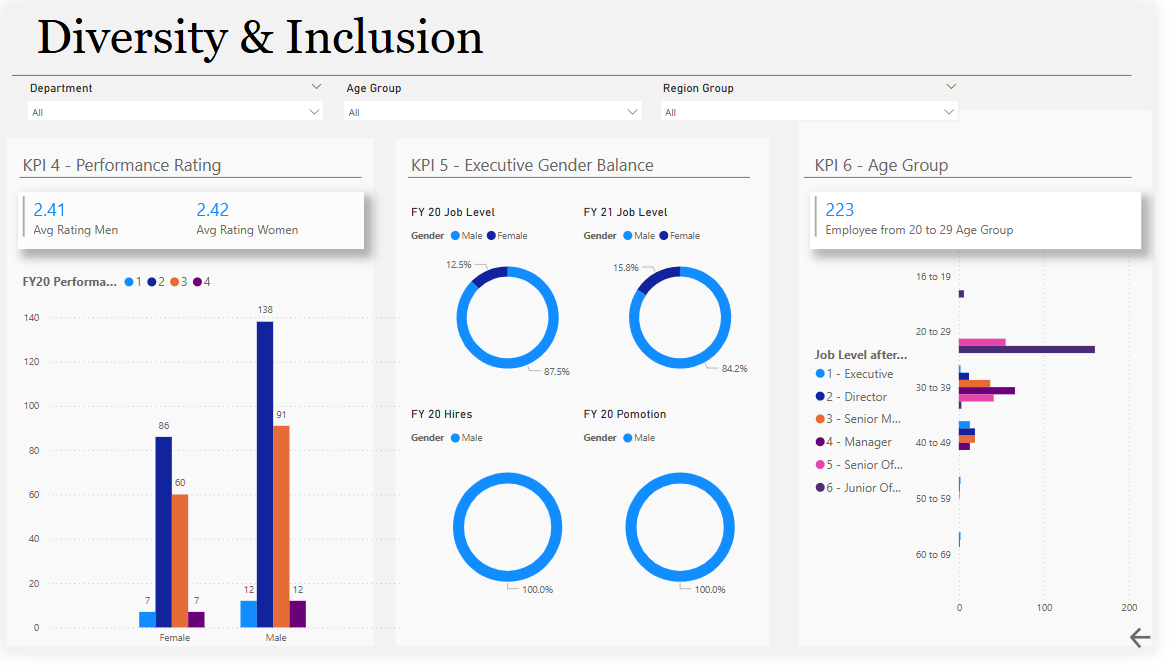

The page's visual inventory and layout, read from the dashboard file:
{"tool":"powerbi","page":{"name":"Diversity & Inclusion Analysis Dashboard II","canvas":[1280,720],"ordinal":1},"visuals":[{"type":"basicShape","box":[0,144,416,576],"z":0},{"type":"basicShape","box":[0,64,1264,32],"z":1000},{"type":"basicShape","box":[432,144,424,576],"z":2000},{"type":"basicShape","box":[880,112,400,608],"z":3000},{"type":"slicer","fields":{"Values":["Pharma Group AG.Last Department in FY20"]},"box":[16,80,350,64],"z":4000},{"type":"slicer","fields":{"Values":["Pharma Group AG.Age group"]},"box":[368,80,352,64],"z":5000},{"type":"slicer","fields":{"Values":["Pharma Group AG.Broad region group: nationality 1"]},"box":[720,80,352,64],"z":6000},{"type":"clusteredColumnChart","fields":{"Category":["Pharma Group AG.Gender"],"Y":["CountNonNull(Pharma Group AG.Employee ID)"],"Series":["Pharma Group AG.FY20 Performance Rating"]},"box":[16,288,432,432],"z":7000},{"type":"textbox","box":[16,160,368,48],"z":8000},{"type":"multiRowCard","fields":{"Values":["Pharma Group AG.Avg performamnce (men)","Pharma Group AG.Avg performamnce (women)"]},"box":[16,208,384,64],"z":9000},{"type":"basicShape","box":[8,176,400,32],"z":10000},{"type":"donutChart","title":"FY 21 Job Level","fields":{"Category":["Pharma Group AG.Gender"],"Y":["CountNonNull(Pharma Group AG.Employee ID)"]},"box":[640,224,224,208],"z":11000},{"type":"basicShape","box":[440,176,400,32],"z":12000},{"type":"textbox","box":[448,160,368,48],"z":13000},{"type":"basicShape","box":[880,176,384,32],"z":14000},{"type":"textbox","box":[896,160,368,48],"z":15000},{"type":"clusteredBarChart","fields":{"Category":["Pharma Group AG.Age group"],"Y":["CountNonNull(Pharma Group AG.Employee ID)"],"Series":["Pharma Group AG.Job Level after FY21 promotions"]},"box":[896,240,368,448],"z":16000},{"type":"multiRowCard","fields":{"Values":["CountNonNull(Pharma Group AG.Employee ID)"]},"box":[896,208,368,64],"z":17000},{"type":"donutChart","title":"FY 20 Job Level","fields":{"Category":["Pharma Group AG.Gender"],"Y":["CountNonNull(Pharma Group AG.Employee ID)"]},"box":[448,224,224,208],"z":18000},{"type":"donutChart","title":"FY 20 Hires","fields":{"Category":["Pharma Group AG.Gender"],"Y":["CountNonNull(Pharma Group AG.Employee ID)"]},"box":[448,448,224,224],"z":19000},{"type":"donutChart","title":"FY 20 Pomotion","fields":{"Category":["Pharma Group AG.Gender"],"Y":["CountNonNull(Pharma Group AG.Employee ID)"]},"box":[640,448,224,224],"z":20000},{"type":"actionButton","box":[1248,688,32,32],"z":21000},{"type":"textbox","box":[32,0,1168,80],"z":22000}]}

Visuals, with their boxes in screenshot pixels (x1, y1, x2, y2), scaled from the page's 1280x720 canvas onto the 1170x672 screenshot:
basicShape: 0, 134, 380, 671
basicShape: 0, 60, 1155, 90
basicShape: 395, 134, 782, 671
basicShape: 804, 105, 1169, 671
slicer - Pharma Group AG.Last Department in FY20: 15, 75, 335, 134
slicer - Pharma Group AG.Age group: 336, 75, 658, 134
slicer - Pharma Group AG.Broad region group: nationality 1: 658, 75, 980, 134
clusteredColumnChart - Pharma Group AG.Gender x CountNonNull(Pharma Group AG.Employee ID): 15, 269, 410, 671
textbox: 15, 149, 351, 194
multiRowCard - Pharma Group AG.Avg performamnce (men) x Pharma Group AG.Avg performamnce (women): 15, 194, 366, 254
basicShape: 7, 164, 373, 194
"FY 21 Job Level" donutChart: 585, 209, 790, 403
basicShape: 402, 164, 768, 194
textbox: 410, 149, 746, 194
basicShape: 804, 164, 1155, 194
textbox: 819, 149, 1155, 194
clusteredBarChart - Pharma Group AG.Age group x CountNonNull(Pharma Group AG.Employee ID): 819, 224, 1155, 642
multiRowCard - CountNonNull(Pharma Group AG.Employee ID): 819, 194, 1155, 254
"FY 20 Job Level" donutChart: 410, 209, 614, 403
"FY 20 Hires" donutChart: 410, 418, 614, 627
"FY 20 Pomotion" donutChart: 585, 418, 790, 627
actionButton: 1141, 642, 1169, 671
textbox: 29, 0, 1097, 75
